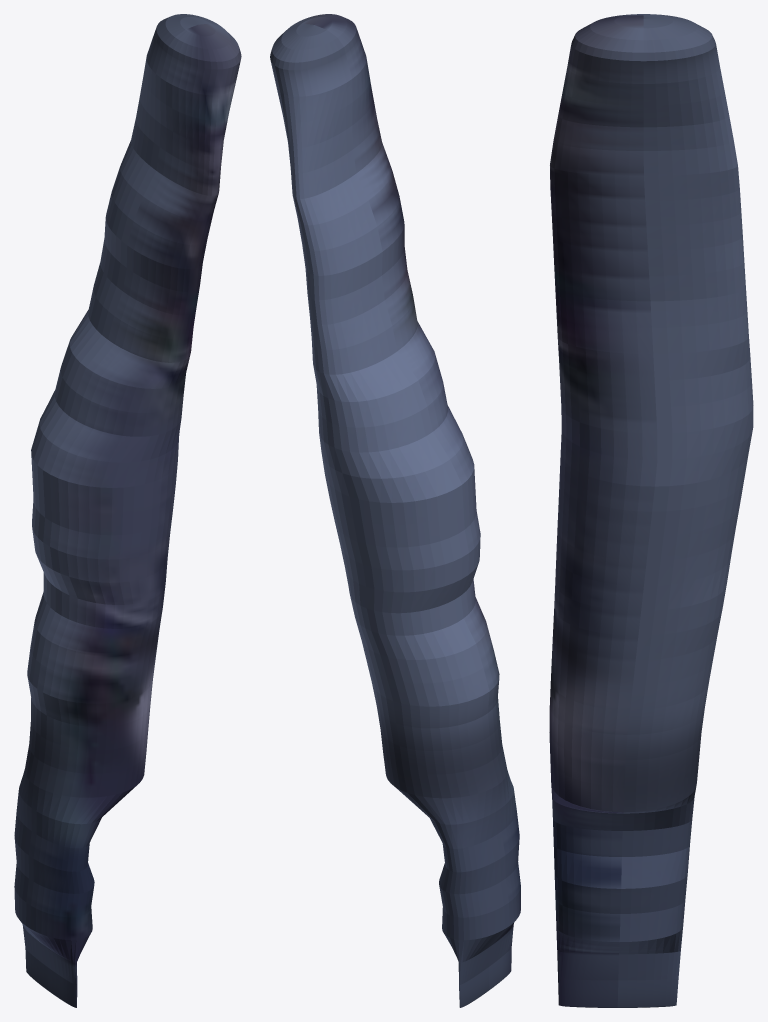
The model's file is subject_arm_r.obj.
3 renders of one model, left to right at view 1: azimuth 30°, elevation 25°; view 2: azimuth 150°, elevation 25°; view 3: azimuth 270°, elevation 25°, orthographic. The views are drawn at different scales.
Visible parts, largest first — view 1: subject_arm_r; view 2: subject_arm_r; view 3: subject_arm_r.
Part boxes in pixels (x1,y1,x2,y2): subject_arm_r: (14,14,241,1007); subject_arm_r: (270,14,520,1007); subject_arm_r: (549,14,753,1007).
Size of the model in its own units: 0.1766 by 0.7294 by 0.1251.
Materials: 1 (1 with a texture image).
